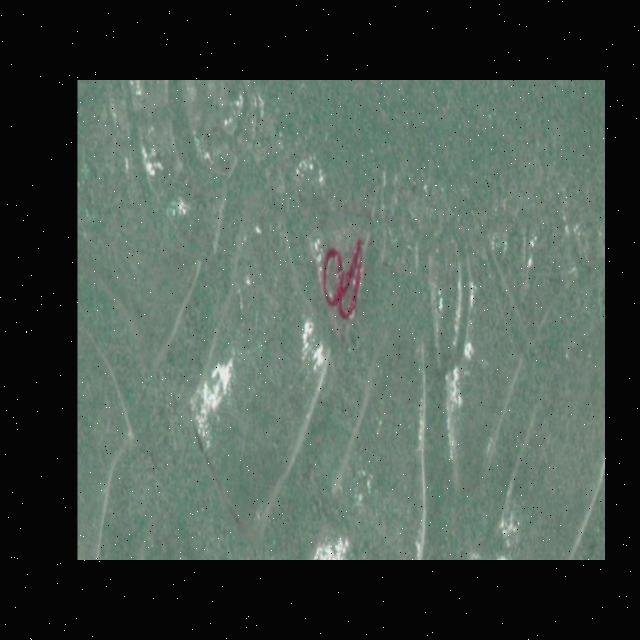Fibre: (317, 218, 368, 322)
